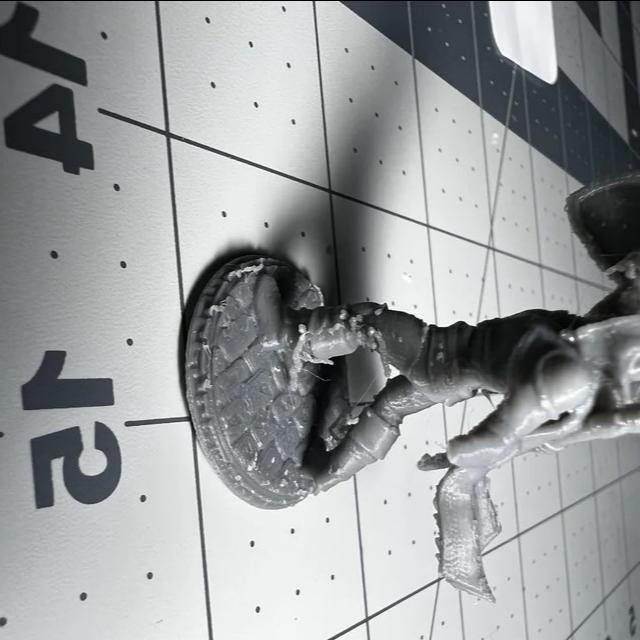zits: (432, 346, 450, 364), (370, 300, 386, 318), (347, 313, 362, 329), (366, 338, 379, 352), (366, 322, 378, 337), (330, 320, 342, 334), (296, 322, 308, 334), (362, 407, 374, 419), (336, 307, 348, 318), (397, 334, 407, 344)
